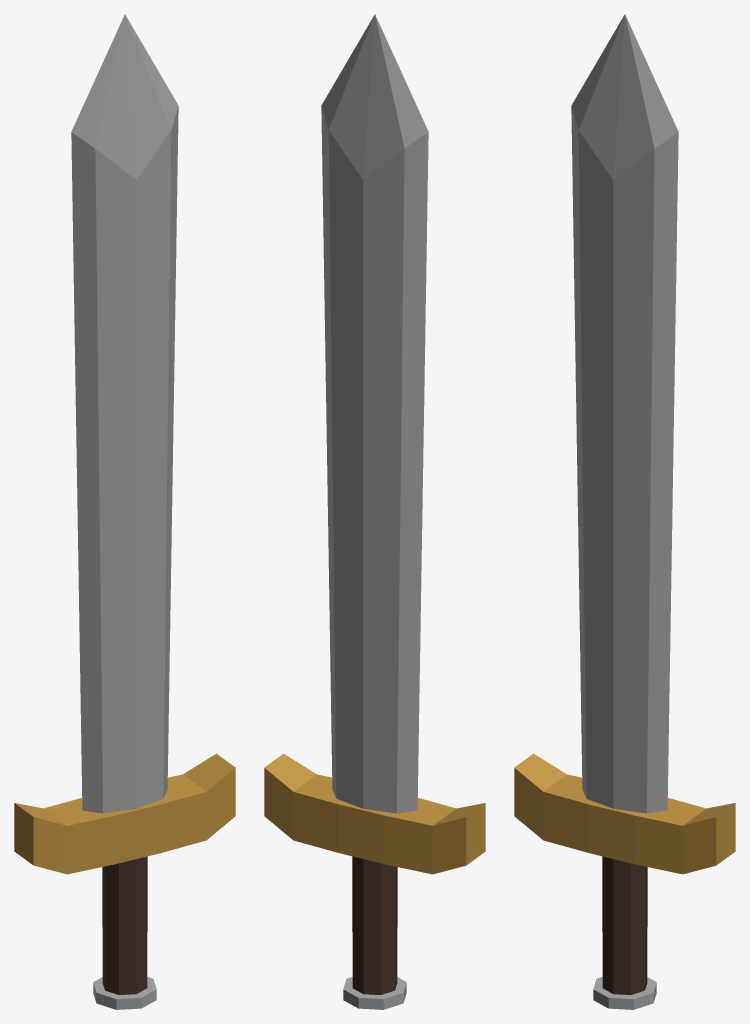
The model's file is sword1.fbx.
3 renders of one model, left to right at view 1: azimuth 30°, elevation 25°; view 2: azimuth 150°, elevation 25°; view 3: azimuth 330°, elevation 25°, orthographic.
Parts seen in each view (by area): view 1: Sword; view 2: Sword; view 3: Sword.
Boxes of the visible parts, x1=… form: Sword: x1=14, y1=14, x2=235, y2=1009; Sword: x1=264, y1=14, x2=485, y2=1009; Sword: x1=514, y1=14, x2=735, y2=1009.
Bounding box in the file's own units: 17.01 × 79.04 × 4.8.
